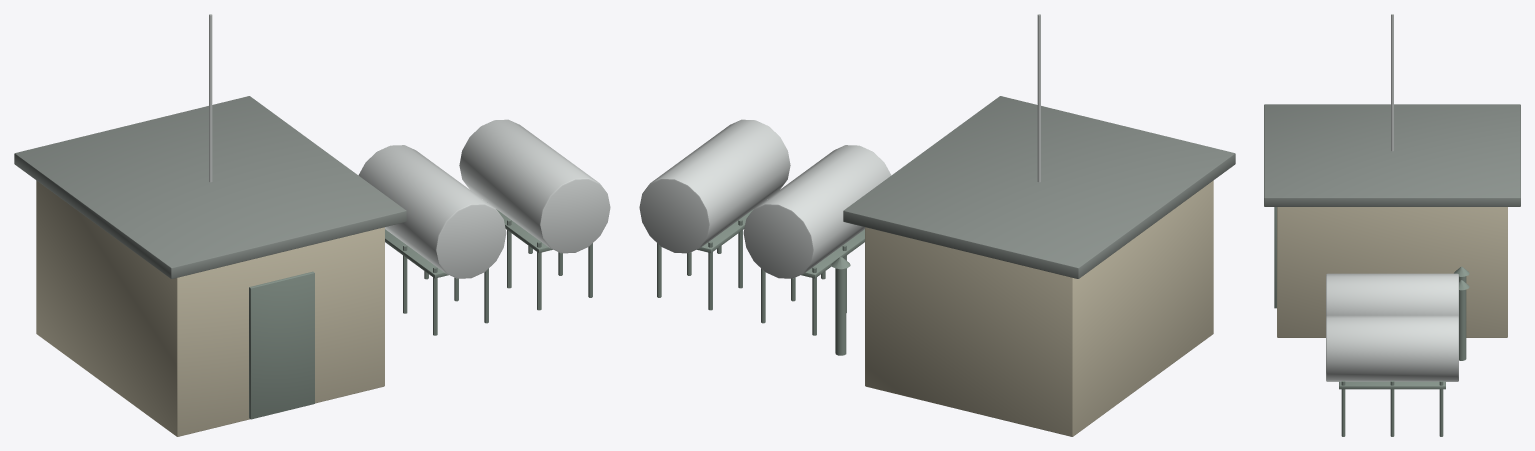
Rendered from CTCC_ENV_RooftopTankCluster.fbx.
The picture shows the model from 3 angles, left to right: view 1: azimuth 30°, elevation 25°; view 2: azimuth 150°, elevation 25°; view 3: azimuth 270°, elevation 25°; orthographic projection. The views are drawn at different scales.
Parts seen in each view (by area): view 1: CTCC_ENV_RooftopTankCluster_LOD0; view 2: CTCC_ENV_RooftopTankCluster_LOD0; view 3: CTCC_ENV_RooftopTankCluster_LOD0.
Boxes of the visible parts, bbox=[...] form: CTCC_ENV_RooftopTankCluster_LOD0: bbox=[14, 14, 610, 436]; CTCC_ENV_RooftopTankCluster_LOD0: bbox=[639, 14, 1235, 436]; CTCC_ENV_RooftopTankCluster_LOD0: bbox=[1264, 14, 1520, 436].
Size of what is drawn, in the model's own units: 7.81 by 5.4 by 4.45.
